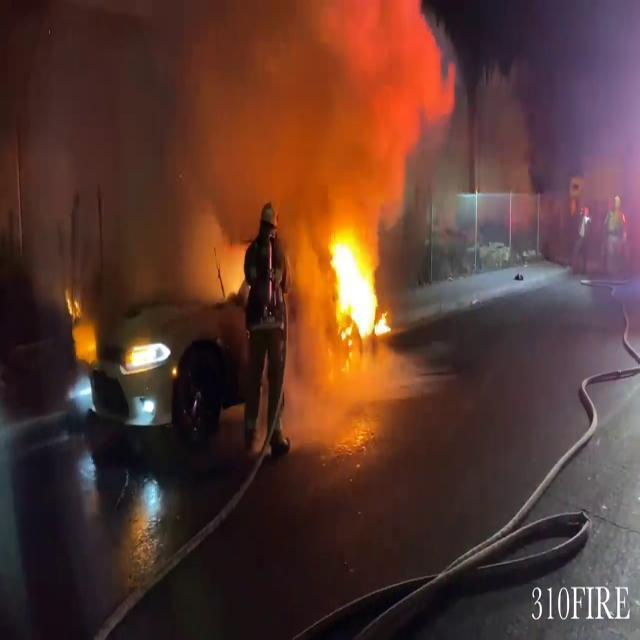Fire: (320, 222, 394, 352)
Smoke: (1, 0, 452, 272)
